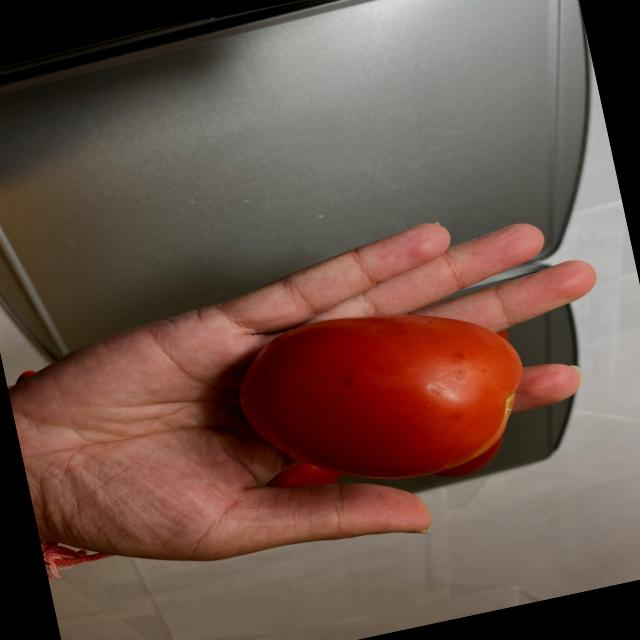tomato: (226, 284, 547, 513)
